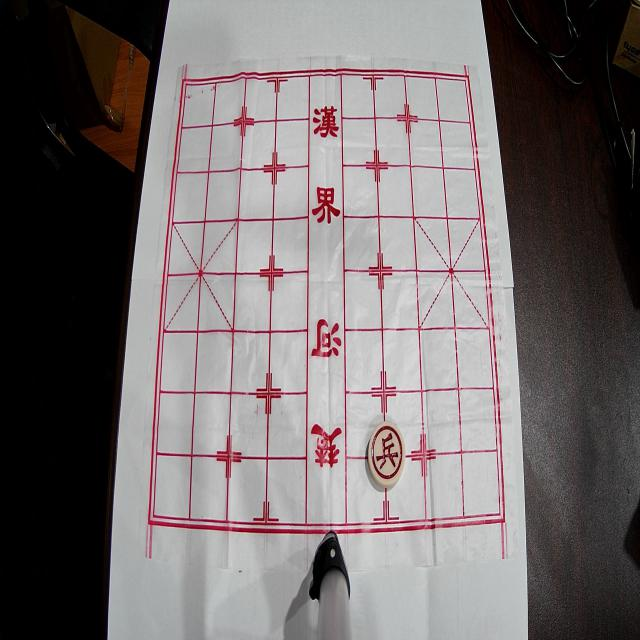red-soldier: (368, 422, 405, 488)
